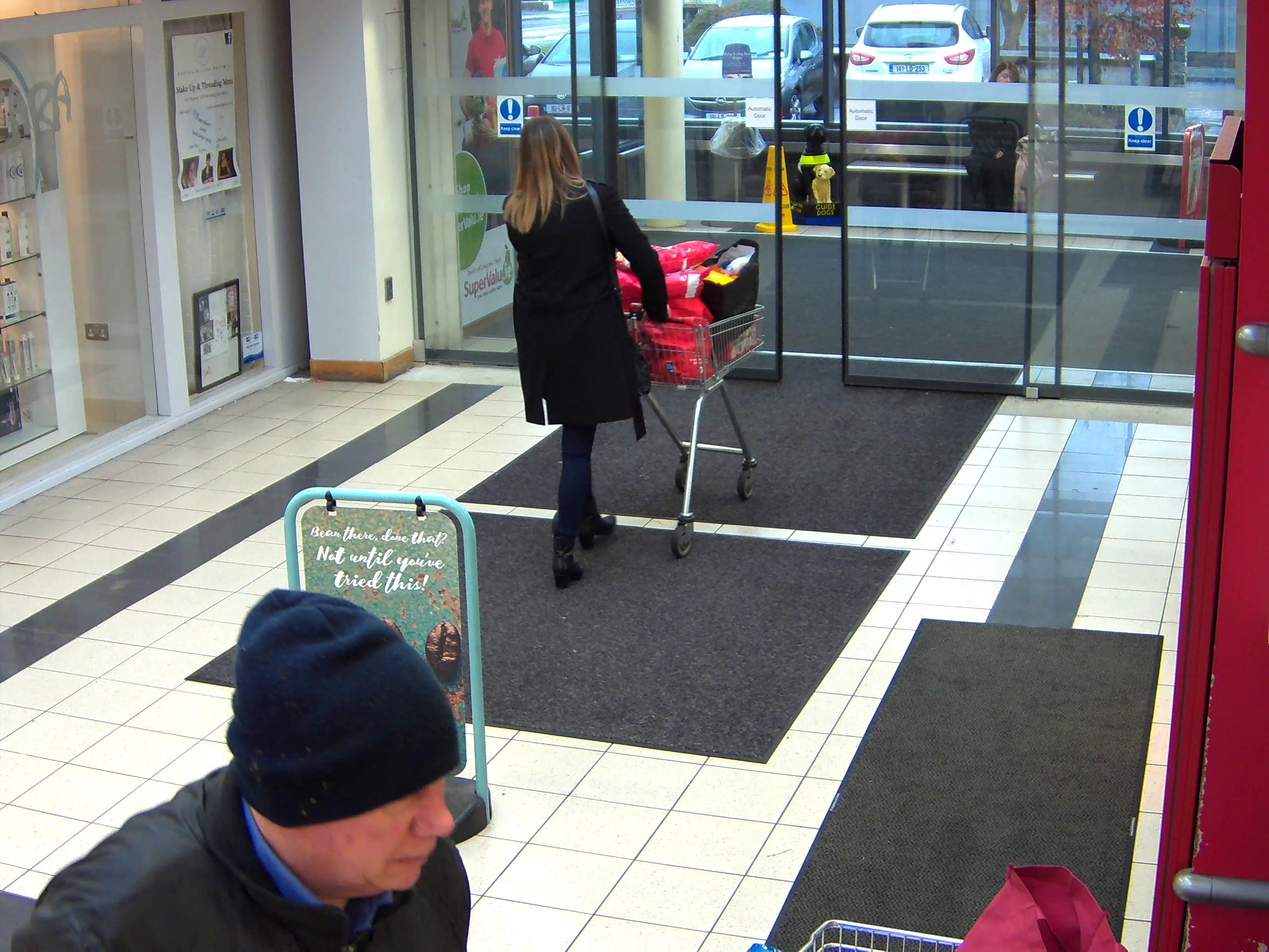filled-trolly: (610, 237, 765, 555)
person: (504, 113, 669, 586)
person-with-filled-basket-trolly: (504, 110, 764, 585)
